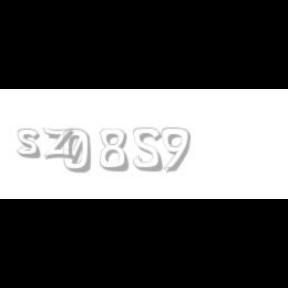0: (64, 128, 94, 174)
8: (100, 128, 128, 172)
9: (162, 128, 190, 172)
S: (132, 128, 163, 172)
s: (17, 128, 45, 160)
z: (42, 128, 78, 160)
